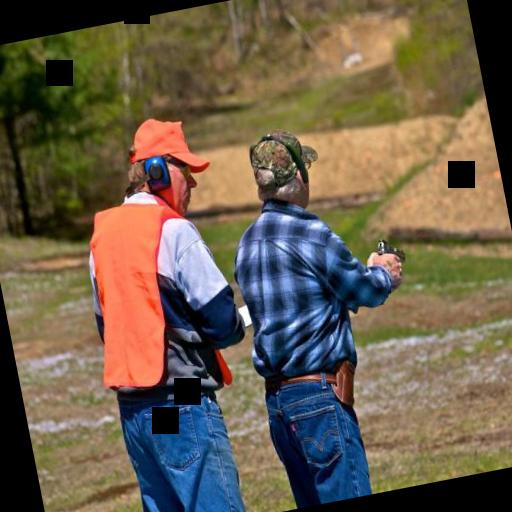Handgun: (363, 228, 407, 269)
